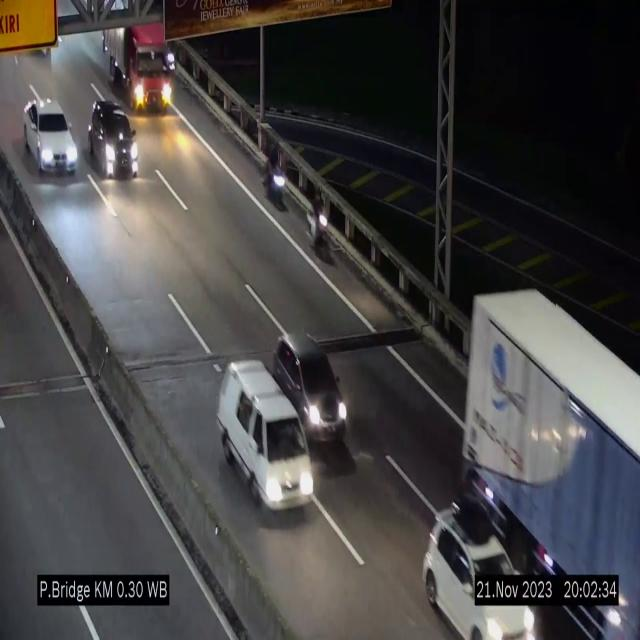Bus: (454, 270, 640, 640)
Car: (422, 496, 538, 640), (217, 361, 314, 511), (271, 329, 349, 441), (87, 99, 137, 185), (24, 99, 80, 173)
Motorcycle: (261, 144, 293, 218), (307, 187, 332, 266)
Truck: (100, 29, 178, 116)
